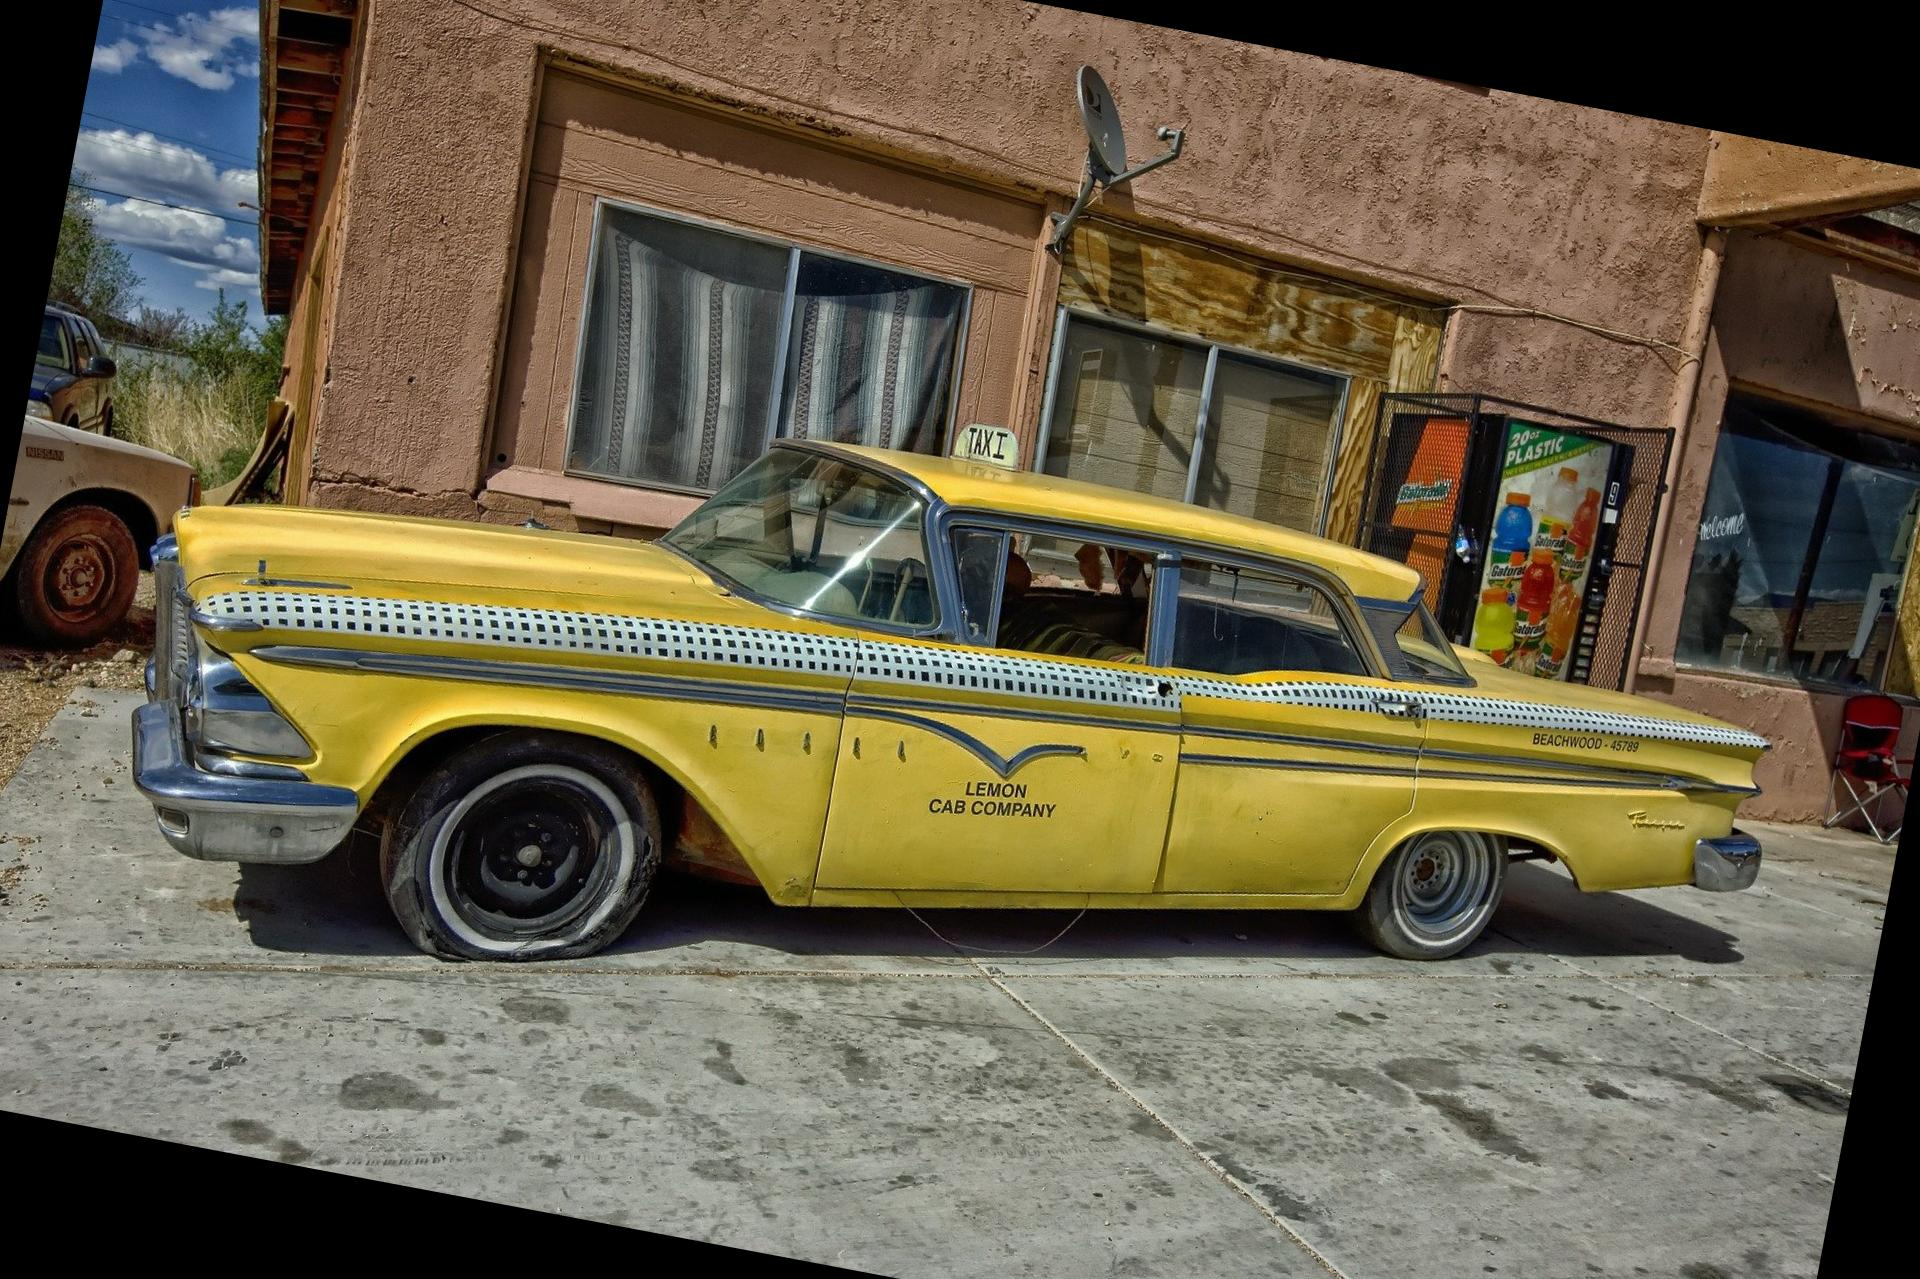taxi: (114, 494, 1823, 951)
